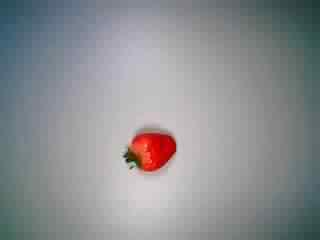strawberry: (115, 119, 181, 181)
